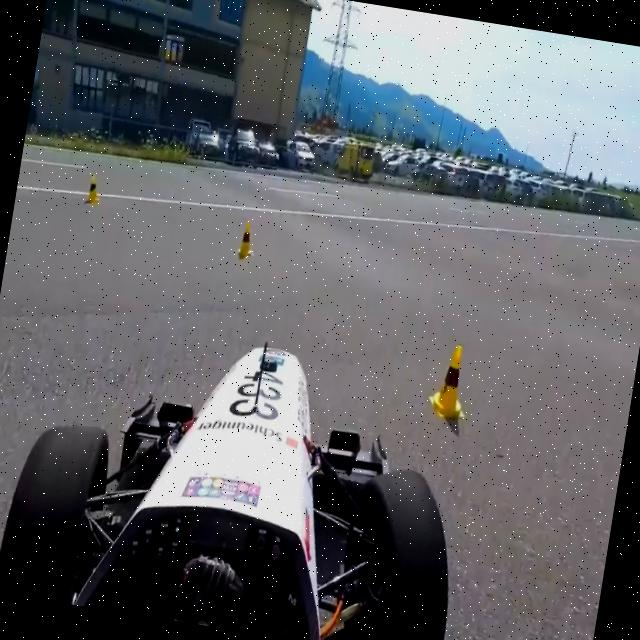yellow_cone: (427, 342, 475, 422), (236, 223, 258, 259), (85, 173, 104, 206)
